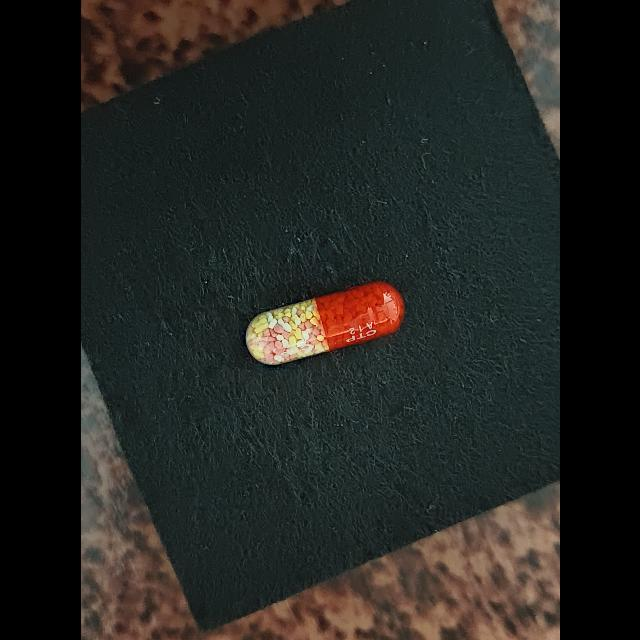Intact Capsule: (245, 281, 405, 365)
